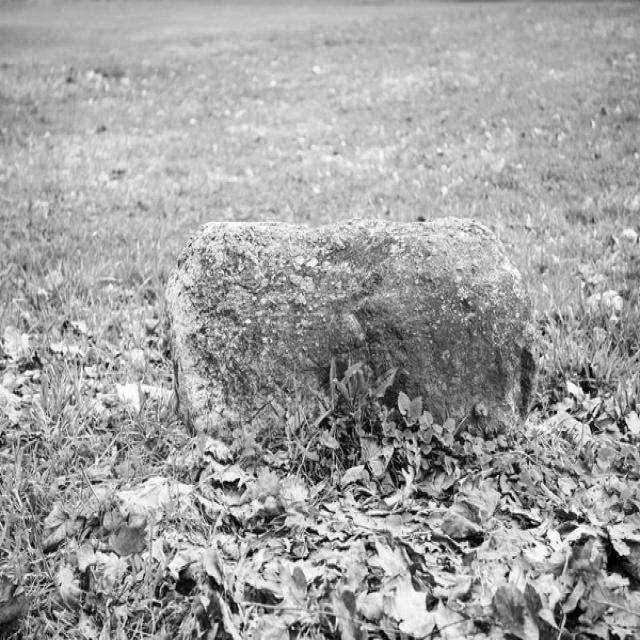Stone: (164, 218, 539, 433)
